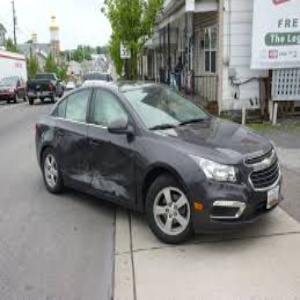door: (62, 141, 136, 201)
